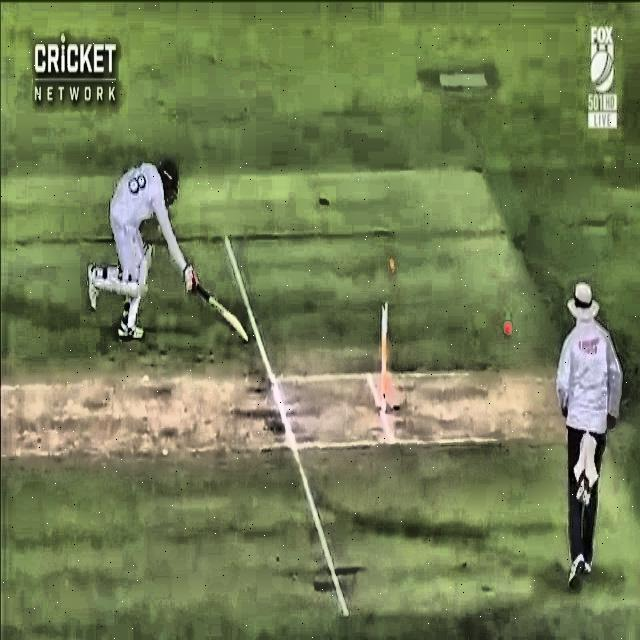Ball: (488, 318, 524, 344)
Bat: (174, 263, 253, 348)
Dis_Wicket: (364, 252, 402, 422)
Pitch_Line: (218, 236, 354, 616)
